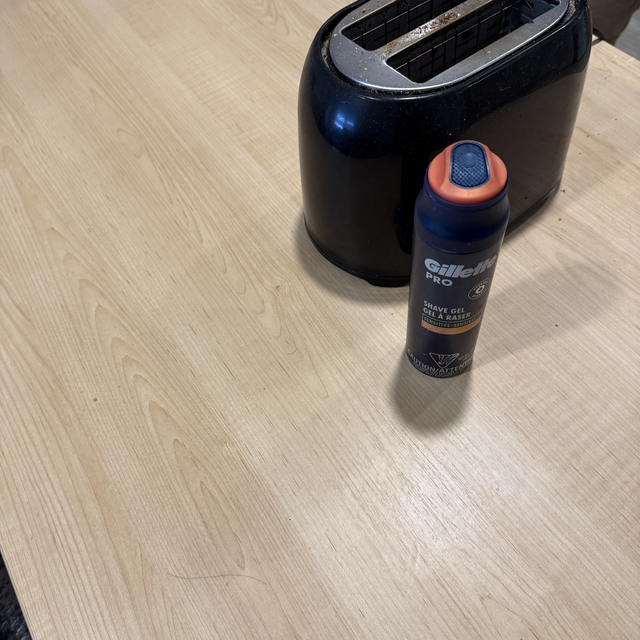Aerosol: (406, 138, 506, 379)
Toaster: (293, 0, 592, 308)
